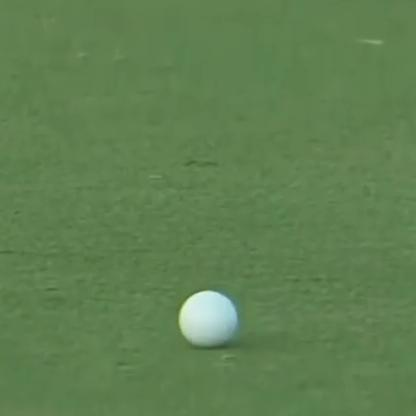golfball: (179, 286, 236, 343)
